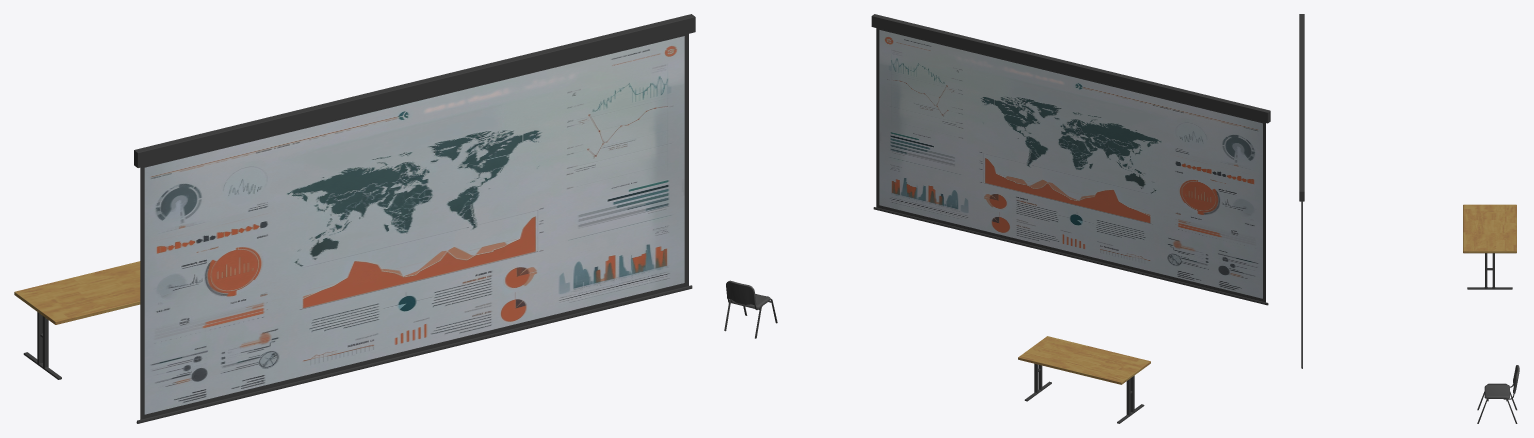
Rendered from Class.fbx.
3 renders of one model, left to right at view 1: azimuth 30°, elevation 25°; view 2: azimuth 150°, elevation 25°; view 3: azimuth 270°, elevation 25°, orthographic. The views are drawn at different scales.
Parts seen in each view (by area): view 1: screen_presenation_0, screen_black_0, tables.001_laminate_0.001, tables.001_black_0.001; view 2: screen_presenation_0, screen_black_0, tables.001_laminate_0.001, chairs.003_black_matte_0.001, tables.001_black_0.001; view 3: tables.001_laminate_0.001, screen_black_0, chairs.003_black_matte_0.001, tables.001_black_0.001, chairs.003_black_0.001.
Boxes of the visible parts, left/top/right/bottom form: screen_presenation_0: left=144, top=36, right=684, bottom=414; screen_black_0: left=134, top=14, right=695, bottom=423; tables.001_laminate_0.001: left=14, top=261, right=140, bottom=324; tables.001_black_0.001: left=23, top=312, right=61, bottom=379; screen_presenation_0: left=879, top=30, right=1262, bottom=298; screen_black_0: left=871, top=14, right=1270, bottom=305; tables.001_laminate_0.001: left=1018, top=336, right=1150, bottom=384; chairs.003_black_matte_0.001: left=726, top=280, right=770, bottom=308; tables.001_black_0.001: left=1024, top=363, right=1144, bottom=423; tables.001_laminate_0.001: left=1463, top=204, right=1516, bottom=253; screen_black_0: left=1299, top=14, right=1304, bottom=368; chairs.003_black_matte_0.001: left=1484, top=365, right=1519, bottom=398; tables.001_black_0.001: left=1467, top=253, right=1512, bottom=289; chairs.003_black_0.001: left=1477, top=383, right=1517, bottom=423.
Bounding box in the file's own units: 717 × 381 × 348.
4 materials, 2 textured.
